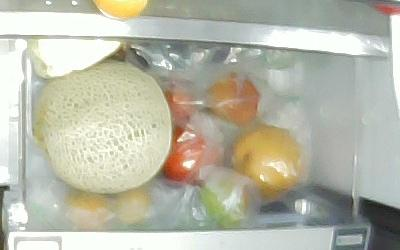cabbage: (27, 36, 124, 77)
melon: (41, 61, 171, 191)
pear_vinyl: (231, 127, 304, 196)
prune_vinyl: (202, 74, 261, 126)
tomato_vinyl: (161, 128, 218, 185), (198, 178, 250, 225), (165, 87, 197, 124)
